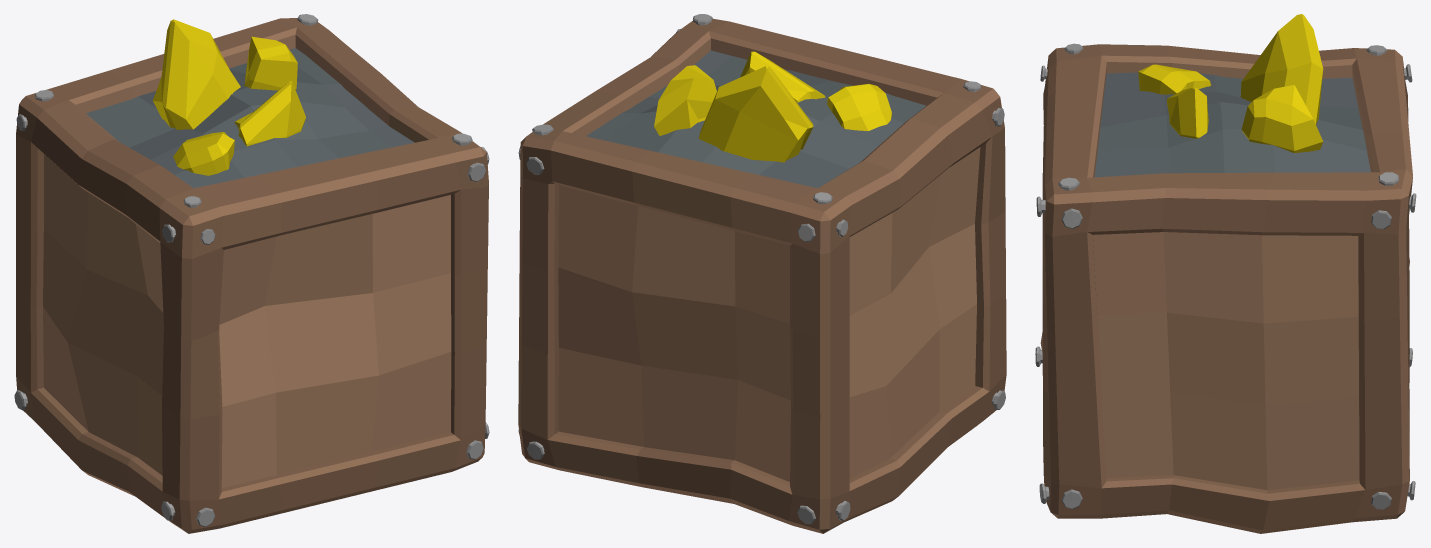
File: Crate_Small_Gold.fbx
The picture shows the model from 3 angles, left to right: view 1: azimuth 30°, elevation 25°; view 2: azimuth 150°, elevation 25°; view 3: azimuth 270°, elevation 25°; orthographic projection. The views are drawn at different scales.
Parts seen in each view (by area): view 1: Crate_Small_Gold, Gold; view 2: Crate_Small_Gold, Gold; view 3: Crate_Small_Gold, Gold.
Part boxes in pixels (x1=…): Crate_Small_Gold: x1=14, y1=14, x2=489, y2=533; Gold: x1=153, y1=19, x2=305, y2=175; Crate_Small_Gold: x1=518, y1=14, x2=1006, y2=533; Gold: x1=654, y1=51, x2=891, y2=162; Crate_Small_Gold: x1=1035, y1=43, x2=1416, y2=533; Gold: x1=1138, y1=14, x2=1323, y2=152.
Bounding box in the file's own units: 71.1 × 88 × 71.11.
